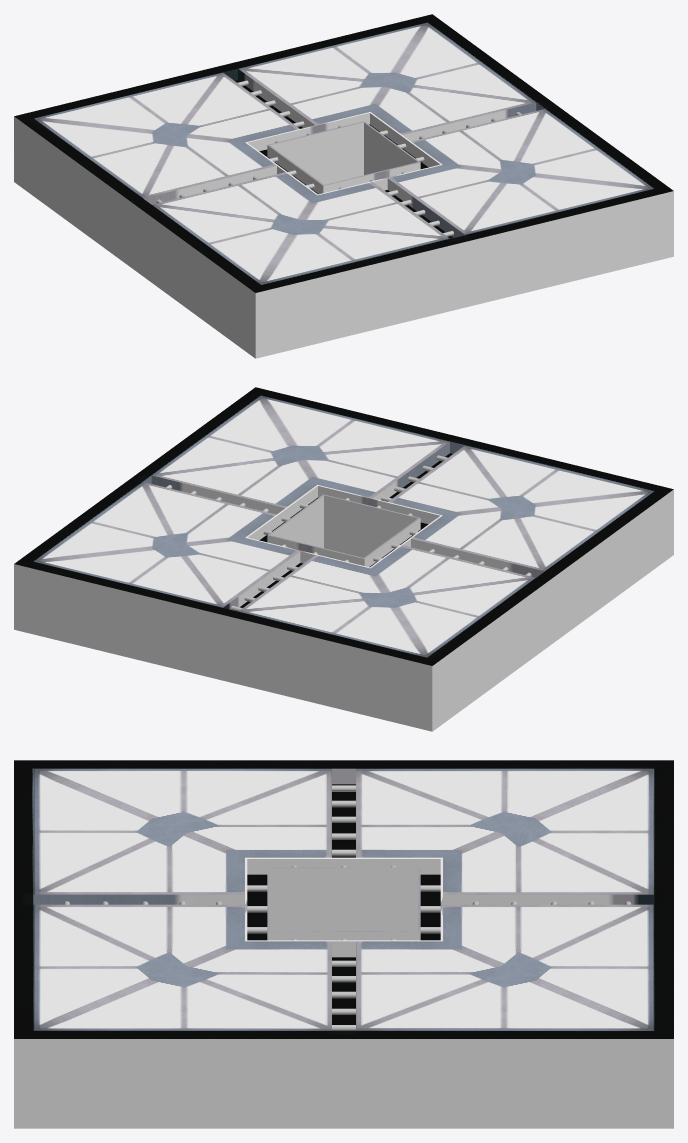
The model's file is WallHyper.obj.
3 views of the same model, one above another, from view 1: azimuth 30°, elevation 25°; view 2: azimuth 150°, elevation 25°; view 3: azimuth 270°, elevation 25° (orthographic). The views are drawn at different scales.
Parts seen in each view (by area): view 1: Cube.001_Cube.002; view 2: Cube.001_Cube.002; view 3: Cube.001_Cube.002.
Boxes of the visible parts, x1,y1,x2,y2 form: Cube.001_Cube.002: [14, 14, 673, 358]; Cube.001_Cube.002: [14, 387, 673, 731]; Cube.001_Cube.002: [14, 760, 673, 1128].
Bounding box in the file's own units: 2 × 0.3 × 2.
